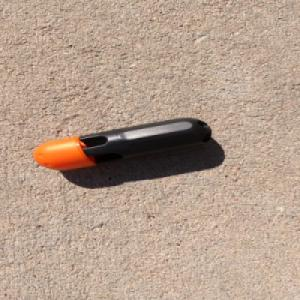PlasticPart: (31, 115, 212, 169)
